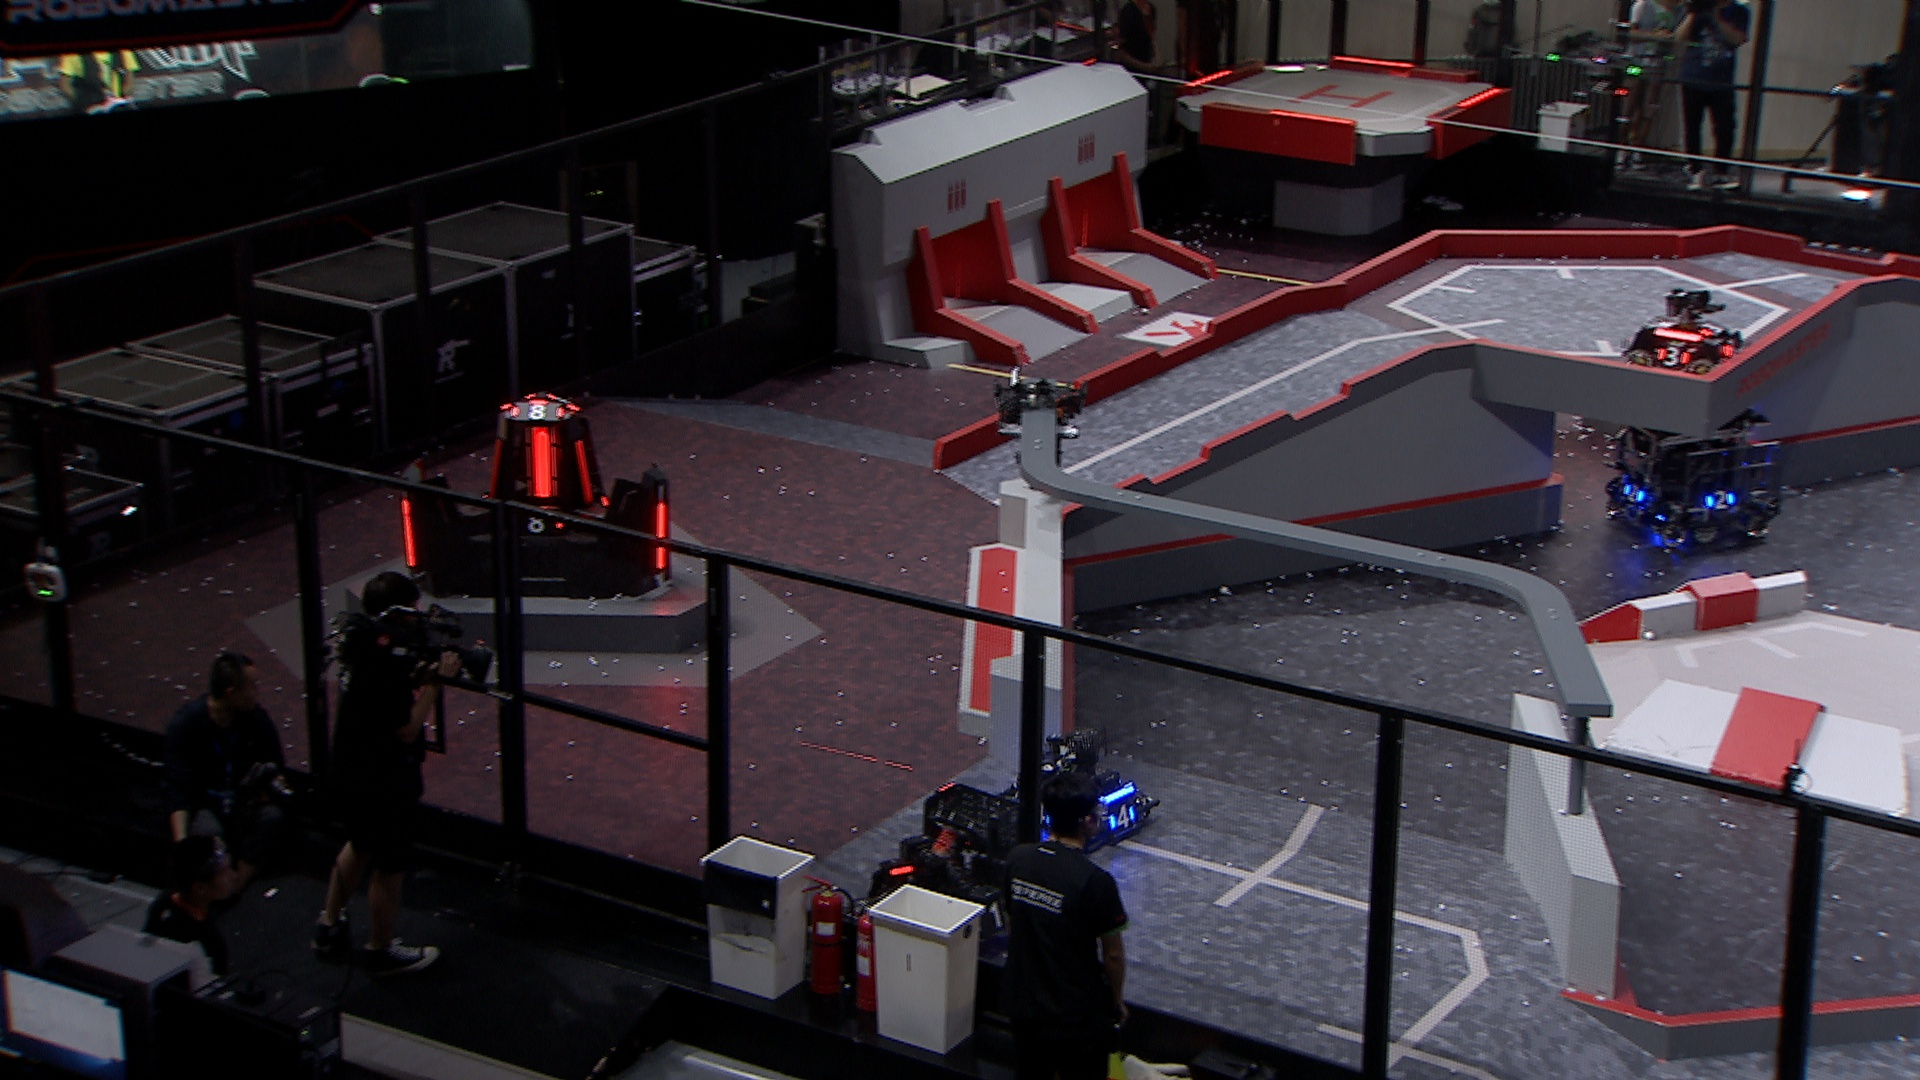armor: (527, 425, 555, 498), (398, 495, 419, 566), (574, 436, 595, 506), (975, 894, 1011, 930), (654, 501, 671, 568), (489, 433, 502, 504), (1109, 802, 1138, 832), (508, 404, 560, 419), (1652, 344, 1689, 367), (524, 513, 564, 533), (1702, 491, 1738, 508), (1619, 481, 1646, 501), (1033, 806, 1054, 828), (1698, 320, 1726, 335), (1720, 342, 1735, 356)
base: (392, 392, 676, 603)
car: (861, 781, 1073, 973), (1600, 404, 1783, 549), (1001, 723, 1156, 856), (1615, 282, 1742, 386)
watcher: (988, 360, 1084, 469)
